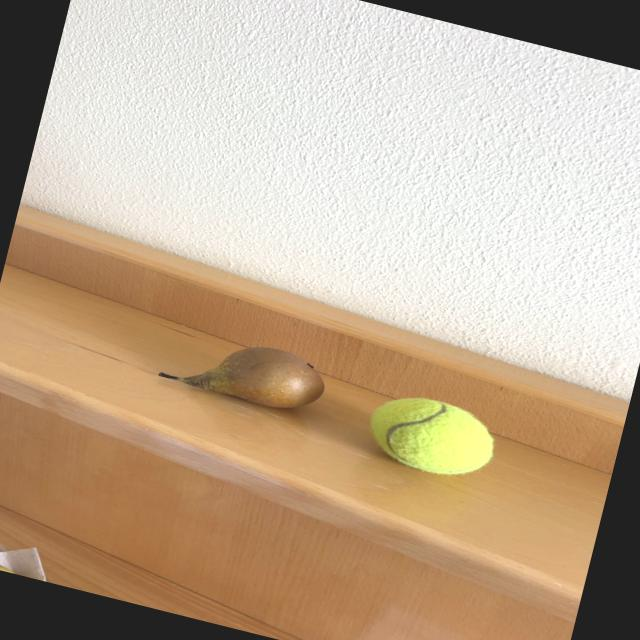pear: (159, 347, 323, 407)
